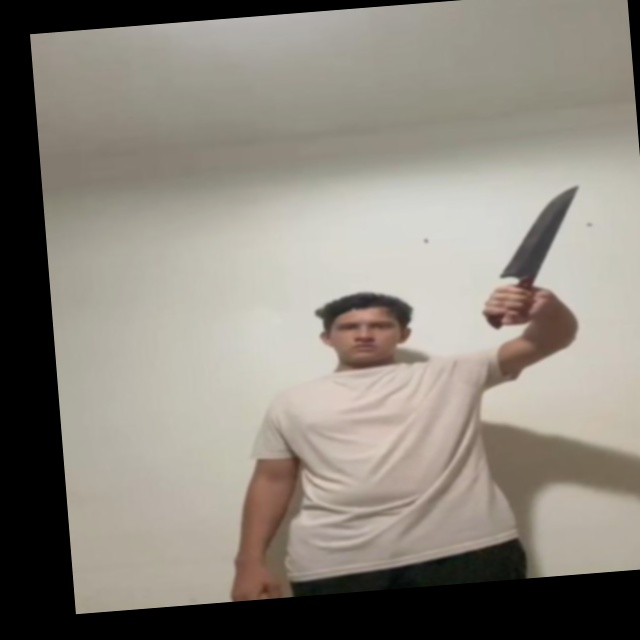Sharp-Object: (488, 185, 587, 281)
